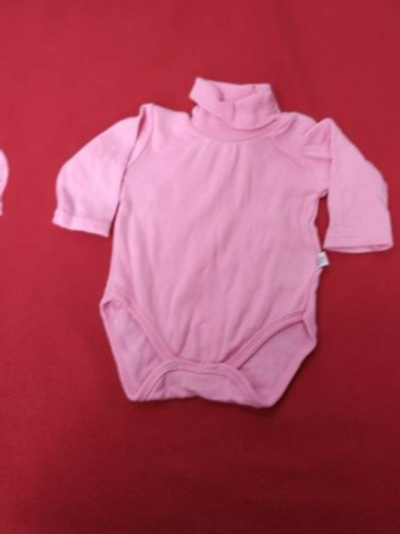Body: (26, 32, 400, 461), (0, 0, 26, 411)
